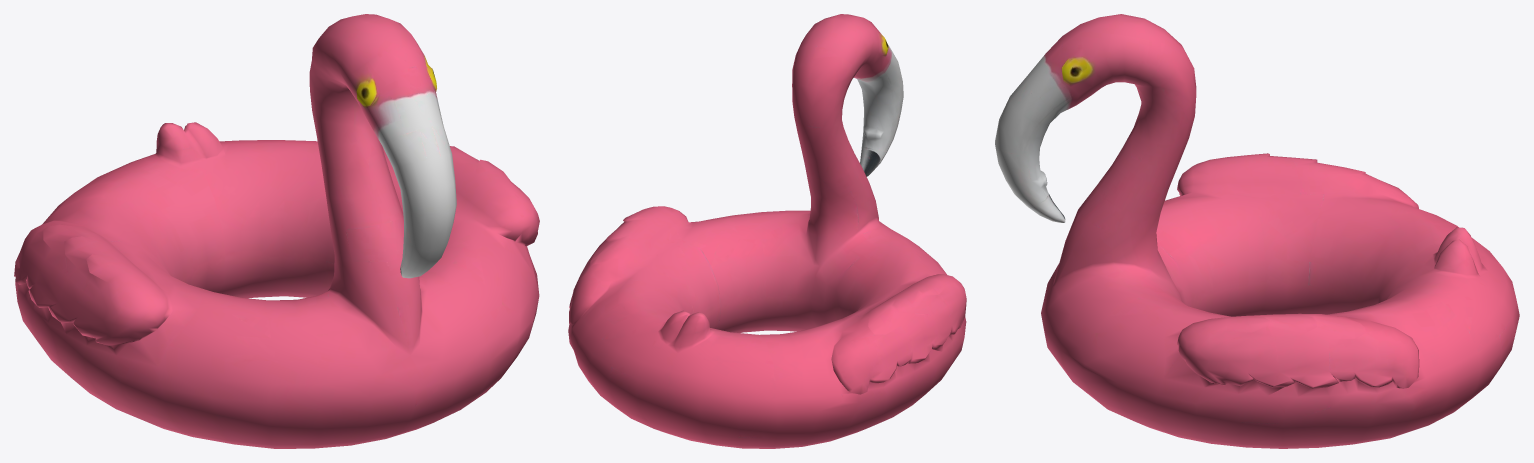
The model's file is flamingo.glb.
3 views of the same model, side by side, from view 1: azimuth 30°, elevation 25°; view 2: azimuth 150°, elevation 25°; view 3: azimuth 270°, elevation 25° (orthographic). The views are drawn at different scales.
Bounding box in the file's own units: 0.8287 × 0.731 × 0.9512.
1 material, 1 textured.
